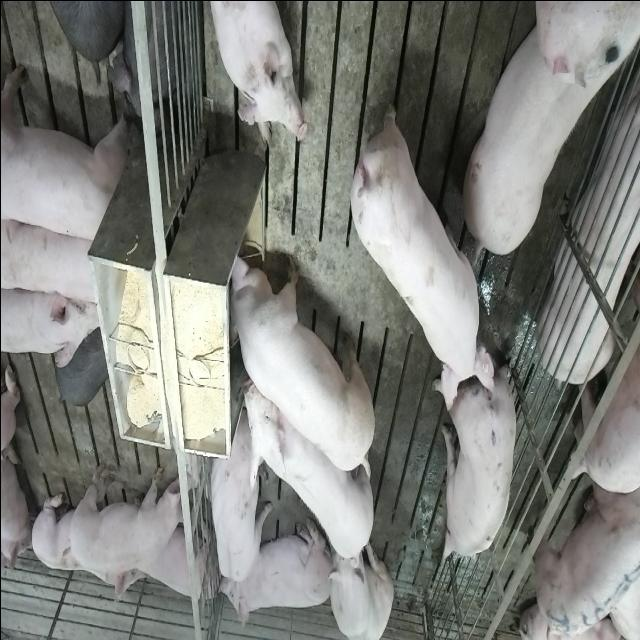Feeding: (218, 248, 370, 476)
Sitting: (324, 528, 393, 640)
Standing: (457, 7, 635, 264), (344, 90, 488, 404), (242, 364, 378, 560), (2, 59, 132, 248), (527, 473, 640, 640), (436, 357, 518, 569), (64, 464, 188, 568), (3, 210, 104, 310), (210, 426, 268, 582), (0, 282, 104, 366)
Sternal_lying: (540, 18, 640, 408), (204, 0, 306, 144), (31, 484, 142, 610), (218, 512, 330, 628), (136, 519, 212, 605)
